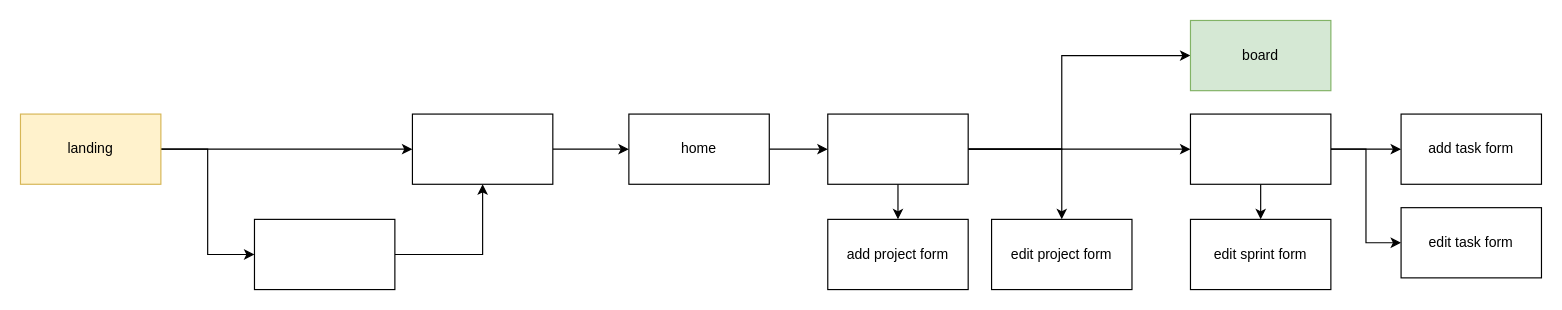
This 1562x310 diagram has some shape labels left out. The centre of each missing label's shape, as x and y in pixels:
"backlog" belongs at pixel 1260 148.
"login" belongs at pixel 482 148.
"projects" belongs at pixel 897 148.
"register" belongs at pixel 324 254.
